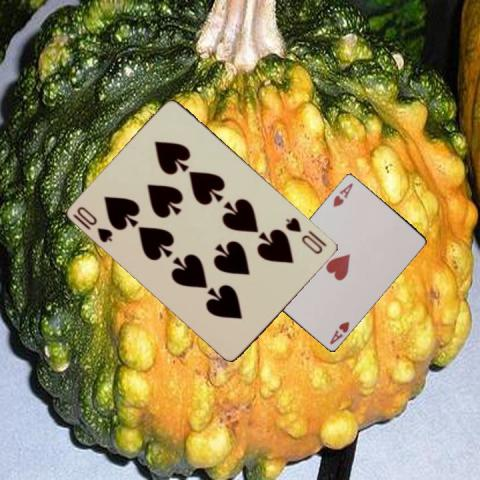10s: (283, 214, 325, 255), (74, 203, 115, 244)
Ah: (330, 180, 355, 208), (326, 318, 350, 345)
